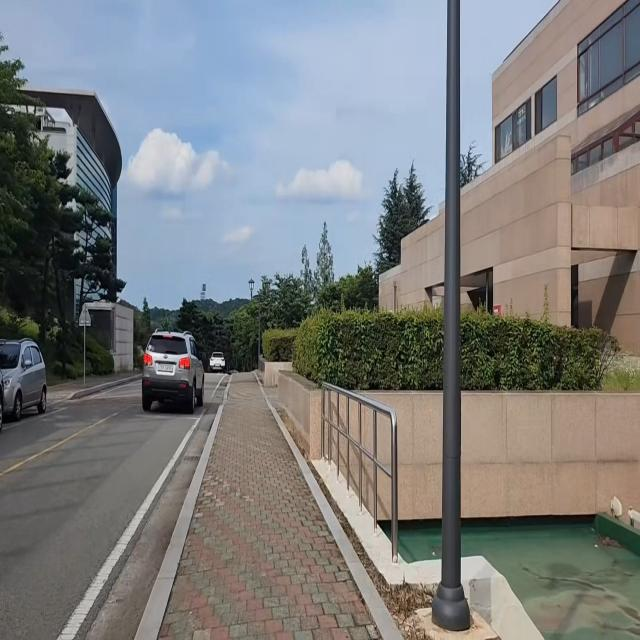obstacle: (430, 0, 472, 619), (134, 320, 211, 422), (0, 327, 53, 431)
road: (0, 373, 228, 640)
sidewalk: (133, 372, 406, 640)
